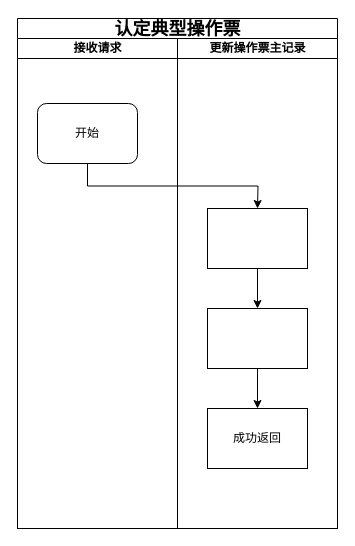
This 355x546 diagram has some shape labels left out. The centre of each missing label's shape, as x and y in pixels:
"更新 操作票主记录" goes at point (257, 338).
"转换请求参数为 操作票主记录数据对象" goes at point (257, 238).
